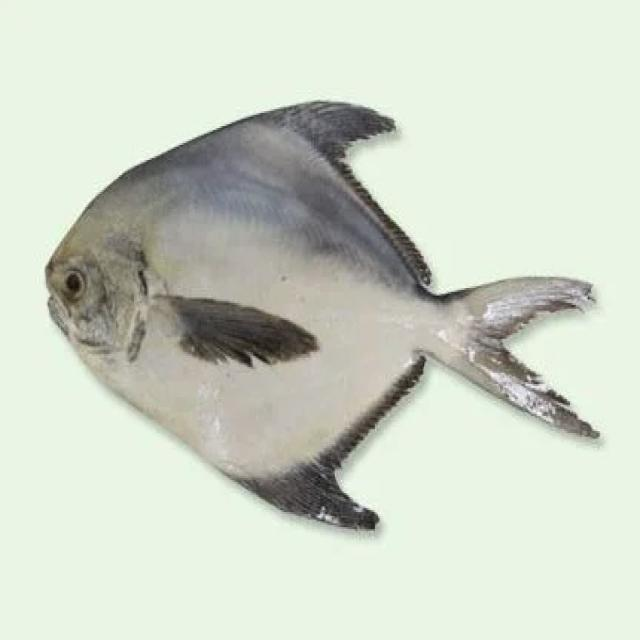pomfred: (42, 104, 599, 532)
